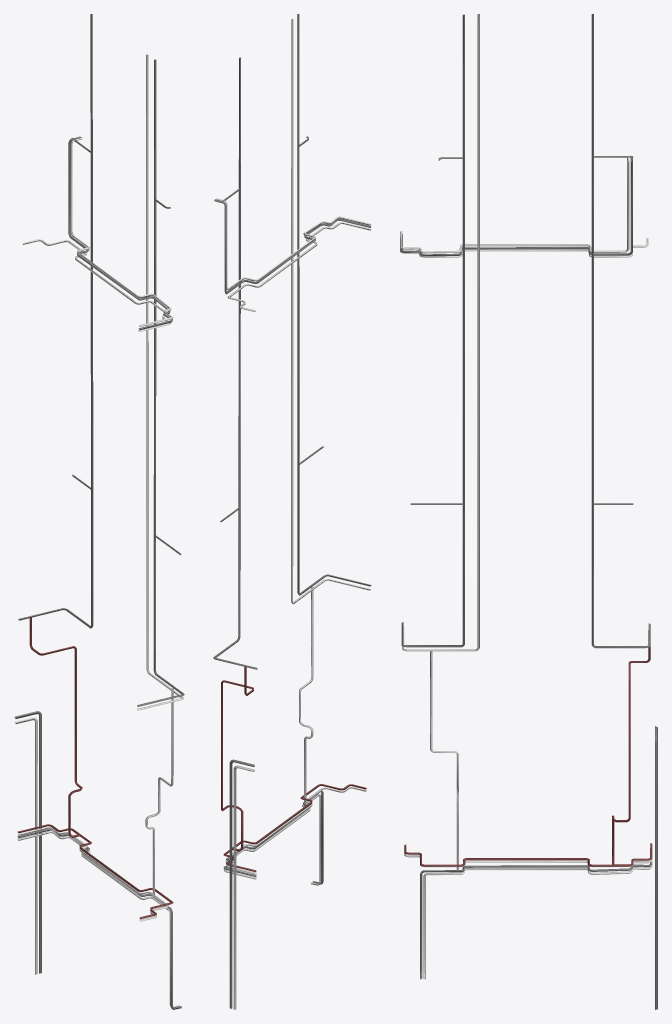
Rendered from SM_H_Building_Tide_WaterDungeon_05b_ATLAS.fbx.
The picture shows the model from 3 angles, left to right: view 1: azimuth 30°, elevation 25°; view 2: azimuth 150°, elevation 25°; view 3: azimuth 270°, elevation 25°; orthographic projection. The views are drawn at different scales.
Visible parts, largest first — view 1: SM_H_Building_Tide_WaterDungeon_05b_ATLAS; view 2: SM_H_Building_Tide_WaterDungeon_05b_ATLAS; view 3: SM_H_Building_Tide_WaterDungeon_05b_ATLAS.
Boxes of the visible parts, x1,y1,x2,y2 form: SM_H_Building_Tide_WaterDungeon_05b_ATLAS: [14, 14, 184, 1009]; SM_H_Building_Tide_WaterDungeon_05b_ATLAS: [213, 14, 371, 1009]; SM_H_Building_Tide_WaterDungeon_05b_ATLAS: [400, 14, 657, 1009].
Size of the model in its own units: 102 by 407 by 1753.
